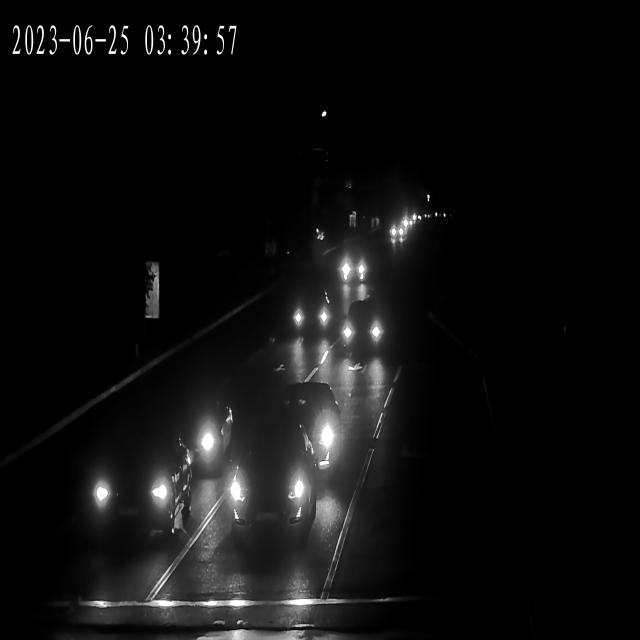Car: (85, 424, 189, 556), (222, 429, 314, 563), (277, 376, 342, 486), (168, 370, 234, 472), (340, 298, 386, 365), (288, 280, 332, 334), (341, 236, 367, 284), (398, 207, 416, 234), (409, 204, 427, 230), (390, 222, 405, 242)
